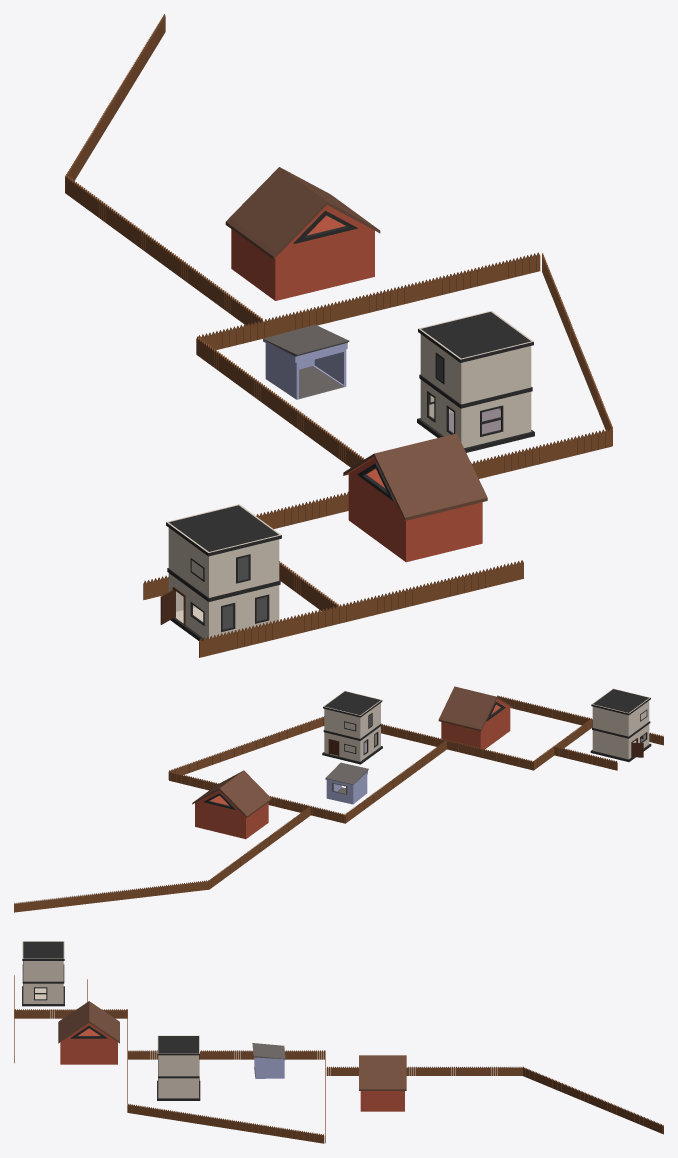
3 renders of one model, top to bottom at view 1: azimuth 30°, elevation 25°; view 2: azimuth 150°, elevation 25°; view 3: azimuth 270°, elevation 25°, orthographic. The views are drawn at different scales.
Visible parts, largest first — view 1: Plane.011, Cube.008, Plane.005, Cube, Plane.015, Plane.001, Plane, Plane.004, Plane.016, Plane.009, Plane.017, Plane.018 (+1 smaller); view 2: Cube, Plane.011, Cube.008, Plane.005, Plane.017, Plane.018, Plane.004, Plane, Plane.015, Plane.016, Plane.009, Plane.001 (+2 smaller); view 3: Plane.005, Cube.008, Cube, Plane.011, Plane.018, Plane.017, Plane.016, Plane.009, Plane, Plane.002.
Boxes of the visible parts, <box> form: Plane.011: <box>225,167,380,300</box>; Cube.008: <box>417,310,534,452</box>; Plane.005: <box>343,433,487,562</box>; Cube: <box>166,504,281,640</box>; Plane.015: <box>198,252,540,350</box>; Plane.001: <box>199,560,523,657</box>; Plane: <box>263,324,349,399</box>; Plane.004: <box>256,428,612,528</box>; Plane.016: <box>65,174,262,325</box>; Plane.009: <box>196,336,364,467</box>; Plane.017: <box>65,14,165,193</box>; Plane.018: <box>542,253,612,445</box>; Cube: <box>590,688,651,761</box>; Plane.011: <box>192,770,271,839</box>; Cube.008: <box>322,691,382,764</box>; Plane.005: <box>438,686,512,749</box>; Plane.017: <box>14,880,208,912</box>; Plane.018: <box>168,716,324,779</box>; Plane.004: <box>381,724,534,770</box>; Plane: <box>325,762,368,804</box>; Plane.015: <box>169,771,344,823</box>; Plane.016: <box>208,806,310,889</box>; Plane.009: <box>345,740,446,823</box>; Plane.001: <box>497,695,663,745</box>; Plane.005: <box>58,1001,119,1064</box>; Cube.008: <box>157,1035,200,1100</box>; Cube: <box>22,941,64,1006</box>; Plane.011: <box>359,1055,406,1111</box>; Plane.018: <box>127,1103,324,1143</box>; Plane.017: <box>523,1067,663,1134</box>; Plane.016: <box>326,1066,522,1075</box>; Plane.009: <box>128,1050,324,1059</box>; Plane: <box>252,1043,285,1078</box>; Plane.002: <box>14,1009,127,1018</box>.
Bounding box in the file's own units: 11357 × 1570 × 19559.
